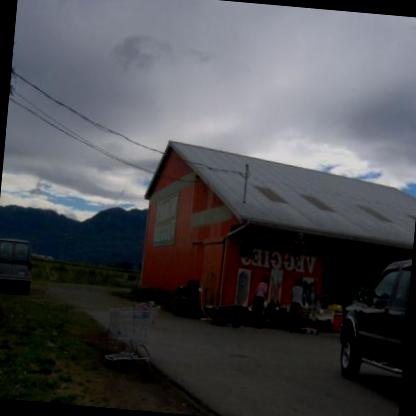car: (331, 252, 411, 392)
